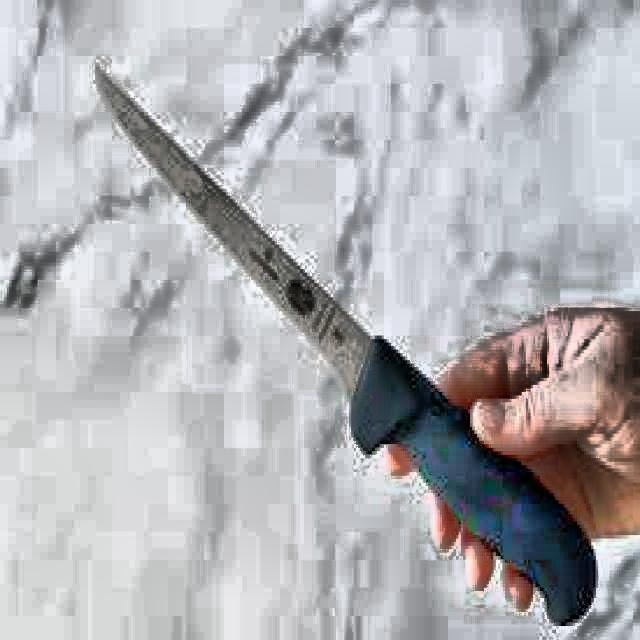knife: (90, 60, 604, 631)
